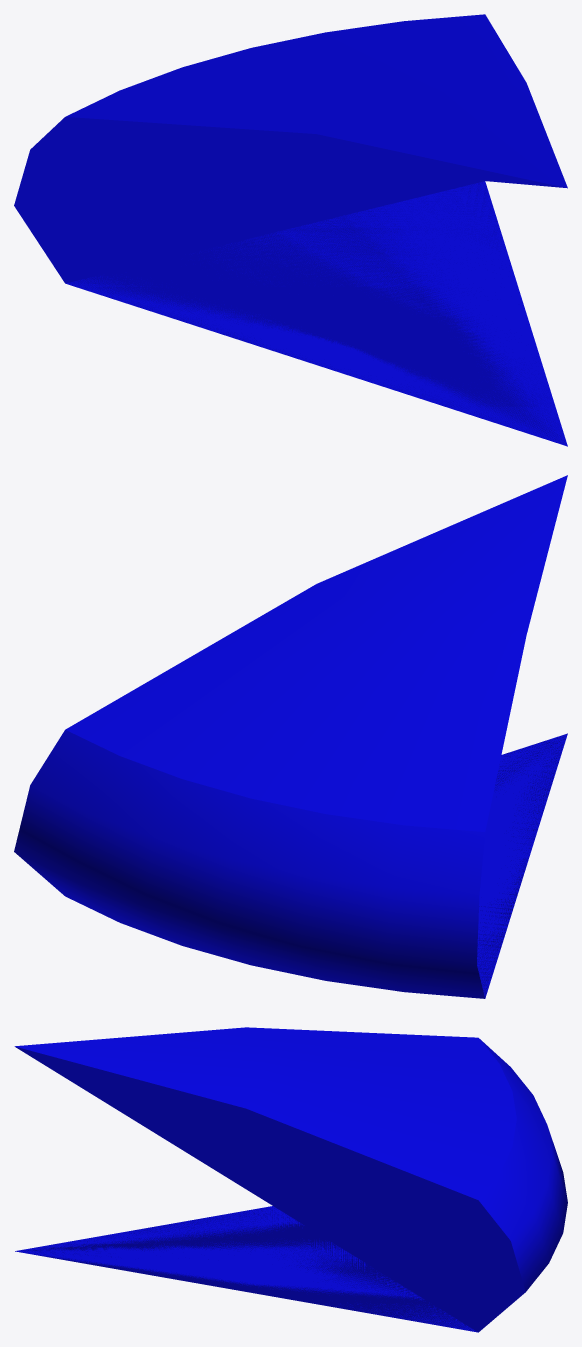
The model's file is body8_6.fbx.
3 views of the same model, one above another, from view 1: azimuth 30°, elevation 25°; view 2: azimuth 150°, elevation 25°; view 3: azimuth 270°, elevation 25° (orthographic). The views are drawn at different scales.
Parts seen in each view (by area): view 1: pCylinder245; view 2: pCylinder245; view 3: pCylinder245.
Boxes of the visible parts, left/top/right/bottom form: pCylinder245: left=14, top=14, right=567, bottom=446; pCylinder245: left=14, top=475, right=567, bottom=998; pCylinder245: left=14, top=1027, right=567, bottom=1332.
Bounding box in the file's own units: 3.42 × 1.82 × 4.47.
